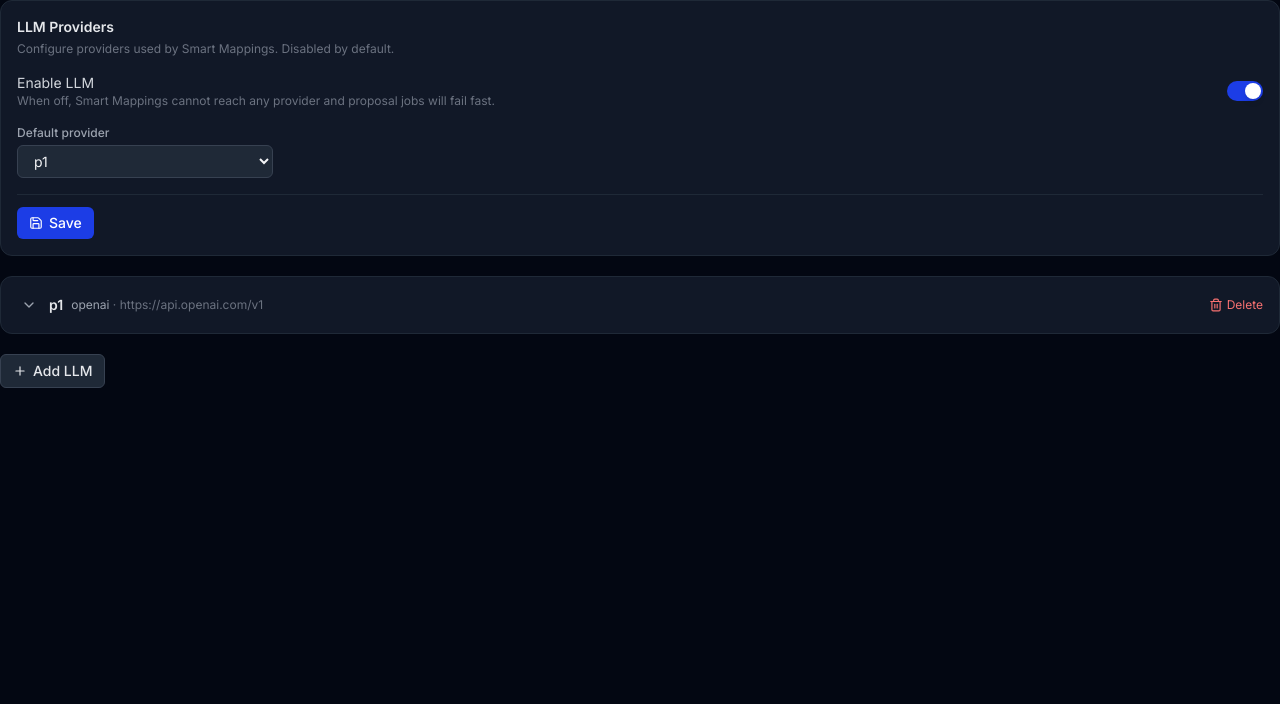
Test: ProviderCard (027 step 5: Discover-then-Probe per-card surface) › preserves an on-disk model that is missing from available_models with a "(not in discovered list)" suffix
The width and height of the screenshot is (1280, 704).
What coordinates should you click on to do the following:
click the button named "Expand p1"
I would click on:
 (29, 305)
Its box is [17,293,41,317].
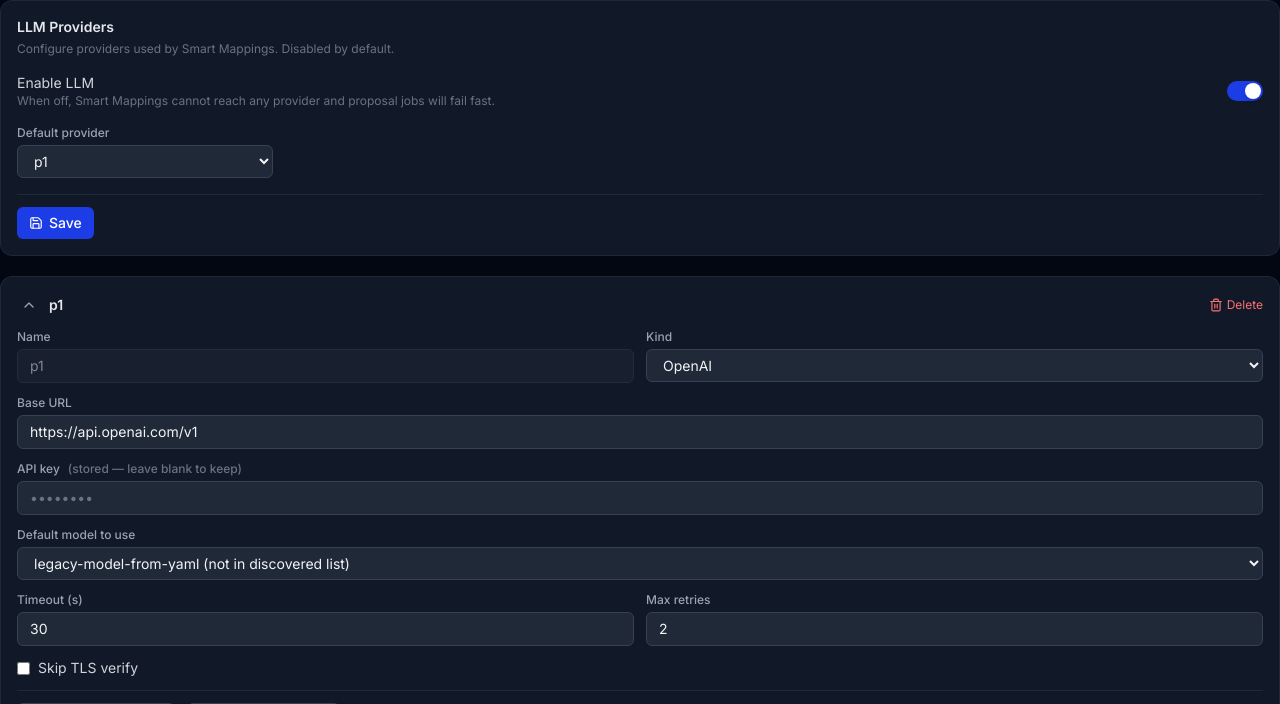
Expected: the dropdown labelled "Default model to use" shows "legacy-model-from-yaml (not in discovered list)", [17,547,1263,580]
